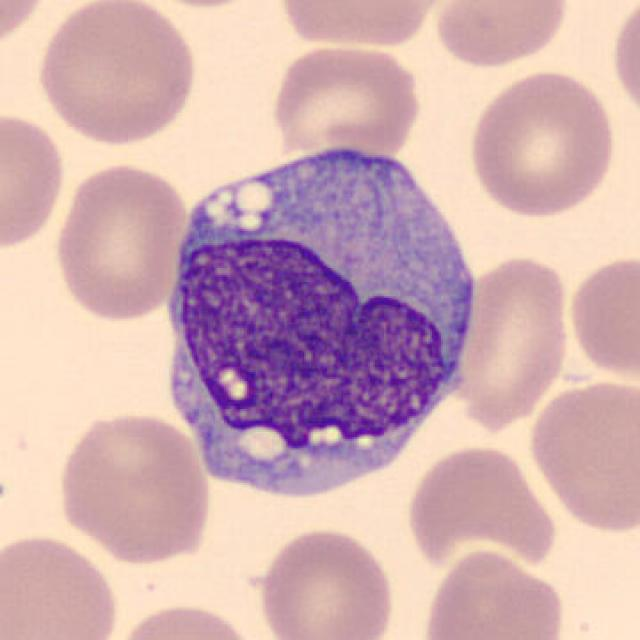Monocyte: (155, 124, 485, 512)
RBC: (52, 407, 215, 566), (32, 0, 201, 148), (464, 67, 619, 220), (50, 159, 192, 324), (450, 252, 574, 430), (402, 441, 560, 576), (524, 374, 638, 536), (267, 41, 425, 155), (250, 523, 398, 640), (418, 545, 569, 640), (0, 529, 124, 640), (428, 0, 572, 71), (564, 249, 638, 386), (0, 107, 69, 253), (274, 0, 450, 53), (109, 599, 263, 640), (608, 0, 640, 129), (0, 0, 53, 56), (124, 0, 275, 12)
